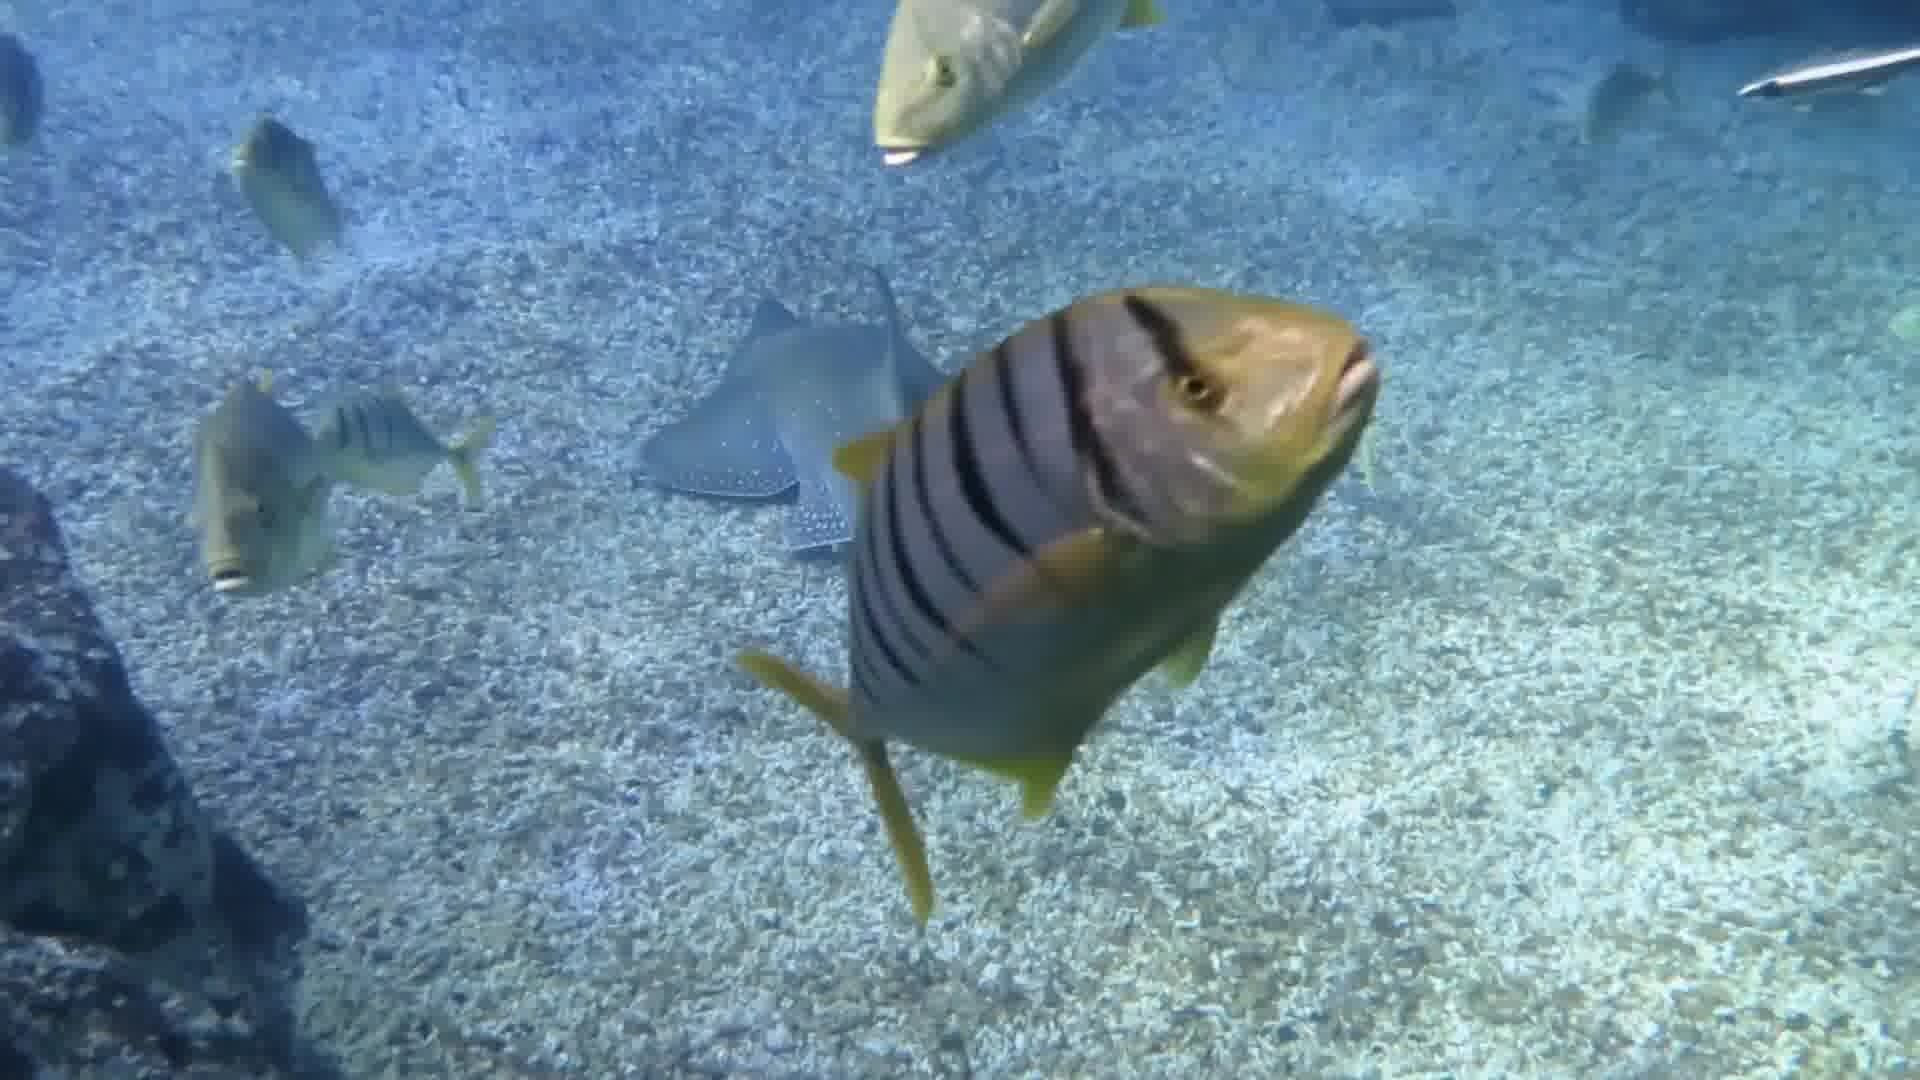Rhychobatus djiddensis: (580, 210, 909, 489)
